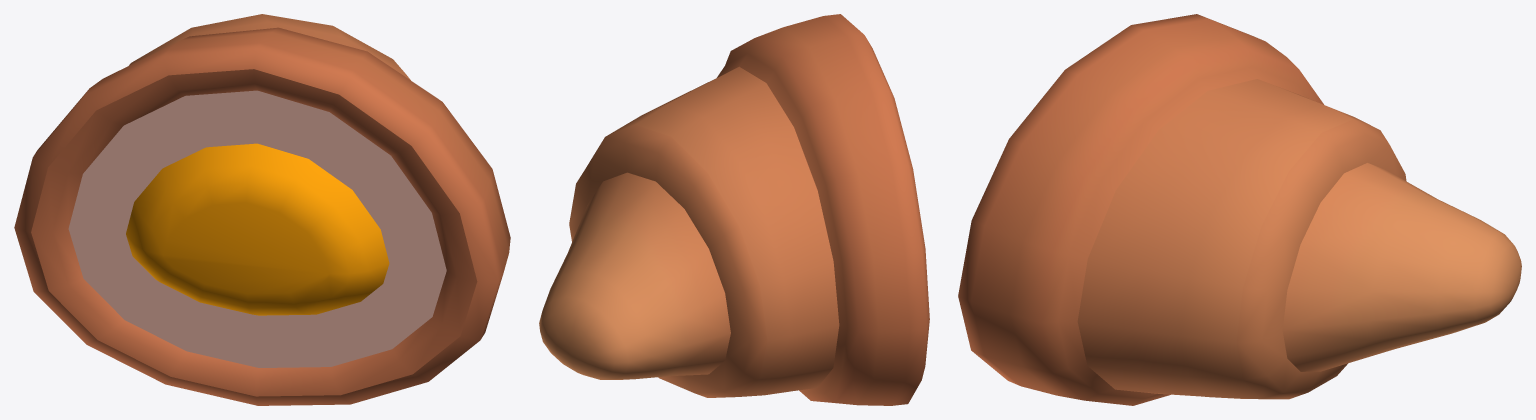
The model's file is Croissant_Slice_V1_00.fbx.
3 views of the same model, side by side, from view 1: azimuth 30°, elevation 25°; view 2: azimuth 150°, elevation 25°; view 3: azimuth 270°, elevation 25° (orthographic). The views are drawn at different scales.
Visible parts, largest first — view 1: Croissant_Slice_V1_00; view 2: Croissant_Slice_V1_00; view 3: Croissant_Slice_V1_00.
Part boxes in pixels (bbox=[...]): Croissant_Slice_V1_00: bbox=[14, 14, 510, 405]; Croissant_Slice_V1_00: bbox=[539, 14, 929, 405]; Croissant_Slice_V1_00: bbox=[958, 14, 1521, 405].
Size of the model in its own units: 36.23 by 30.87 by 45.58.
